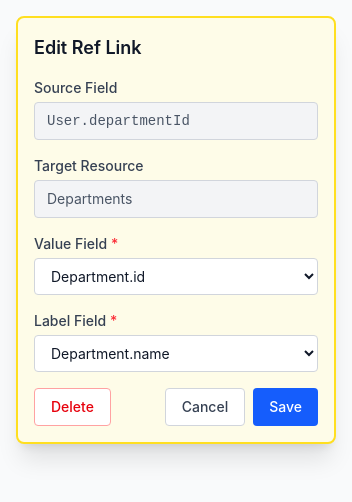
Test case: RefLinkEditPanel › should clear validation error when user selects a valueField
Step 1. Select "Select a field..." in the dropdown with test id "value-field-select" → (176, 276), box [34,258,318,295]
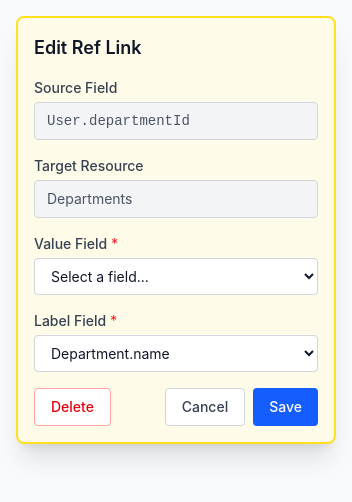
Step 2. Click the button with test id "save-button" → (286, 407), box [253,388,318,426]
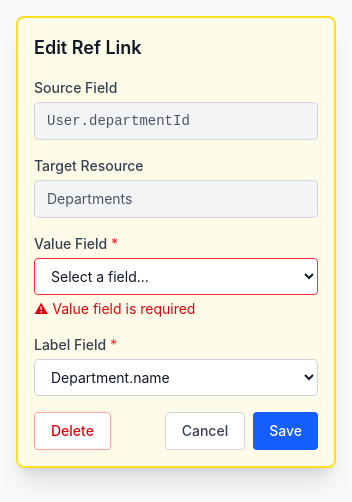
Expected: the message "⚠ Value field is required" is shown, [34,300,196,317]
Step 3. Select "Department.id" in the dropdown with test id "value-field-select" → (176, 276), box [34,258,318,295]
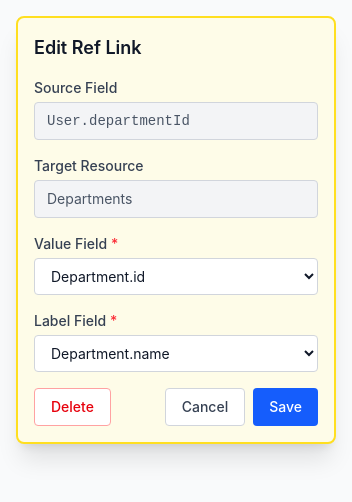
Expected: the message with test id "value-field-error" is gone
